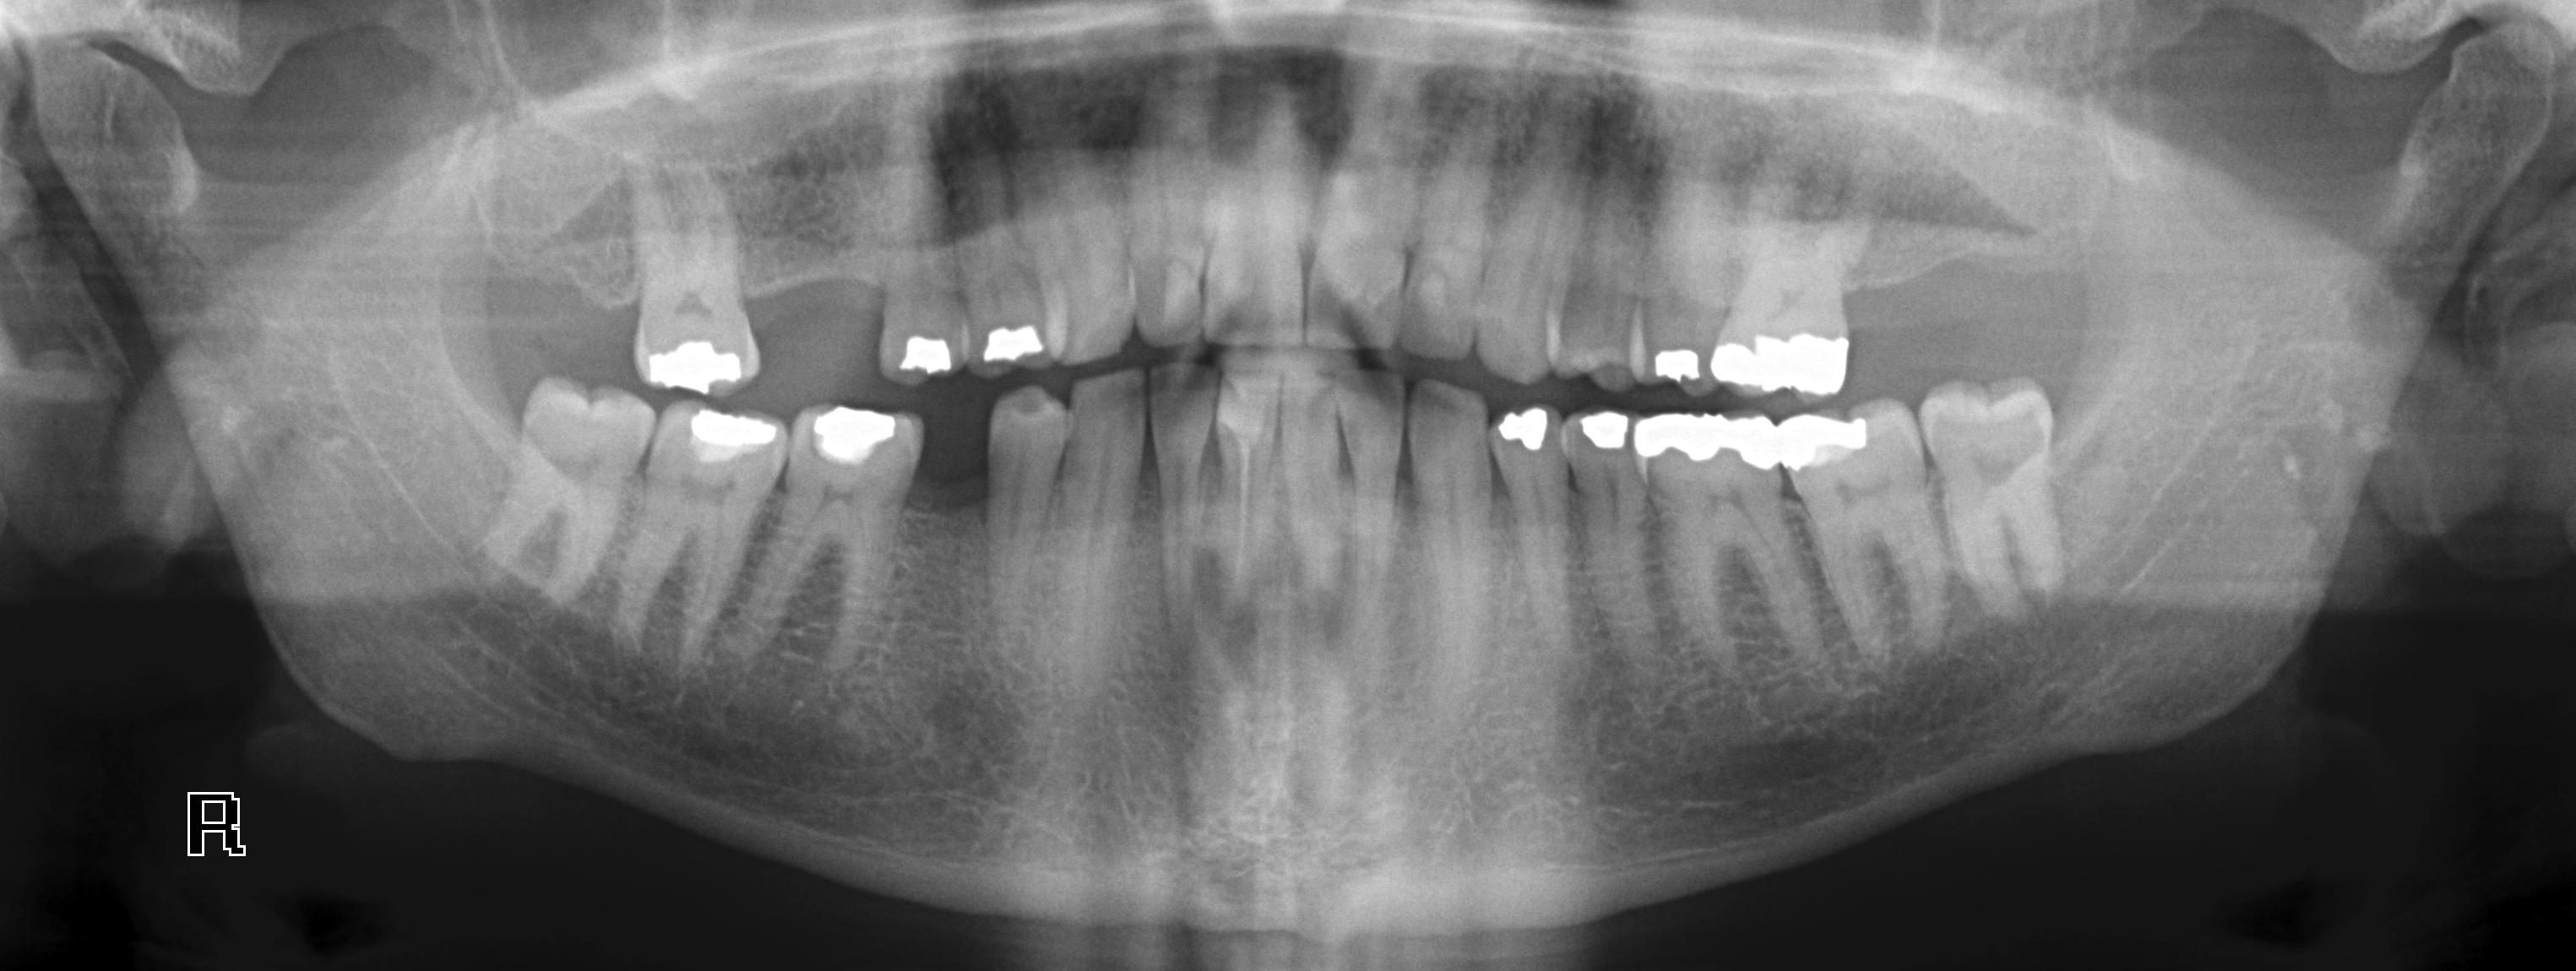Çürük: (1638, 412, 1782, 467), (1712, 338, 1848, 391), (687, 409, 782, 463), (821, 406, 904, 465), (642, 345, 751, 389), (1789, 414, 1866, 462), (979, 330, 1046, 363), (902, 337, 955, 376), (1497, 407, 1543, 439), (1577, 412, 1625, 442), (1656, 348, 1694, 373)
Çürük Bölgesi: (803, 411, 825, 463), (1692, 334, 1710, 389)
